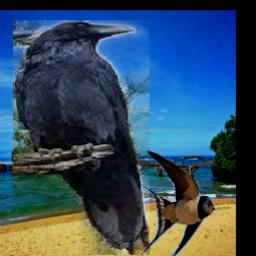Crow: (13, 21, 150, 256)
Swallow: (135, 149, 216, 256)
